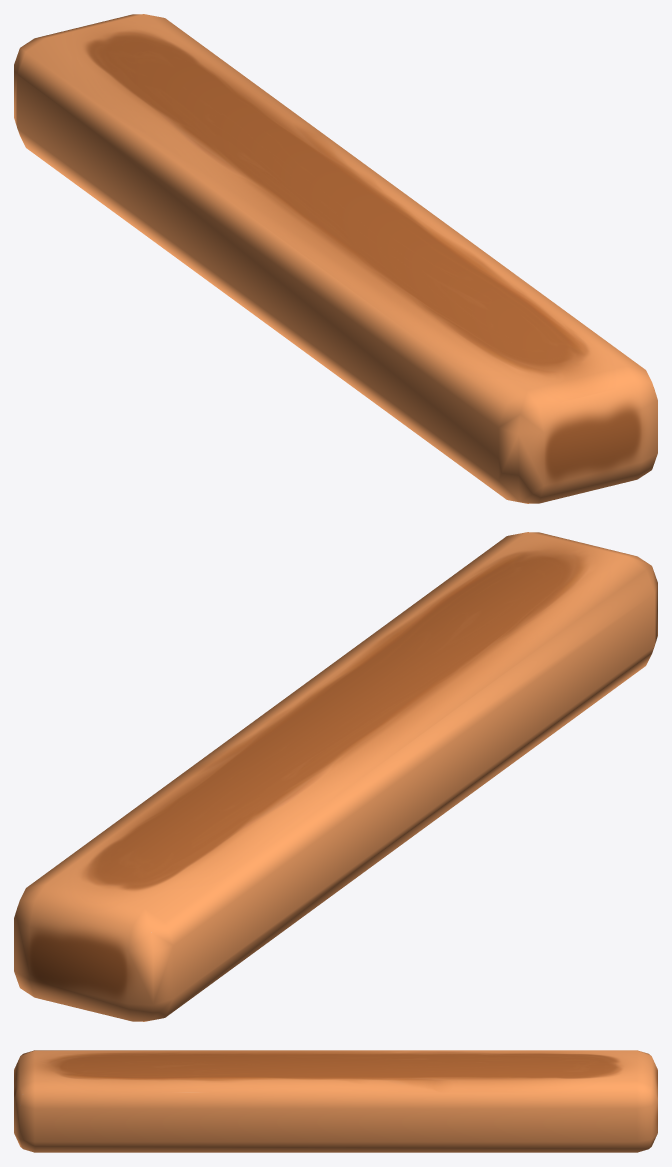
The model's file is woodBalk.fbx.
3 renders of one model, top to bottom at view 1: azimuth 30°, elevation 25°; view 2: azimuth 150°, elevation 25°; view 3: azimuth 270°, elevation 25°, orthographic. The views are drawn at different scales.
Visible parts, largest first — view 1: castle gate.002; view 2: castle gate.002; view 3: castle gate.002.
Part boxes in pixels (bbox=[...]): castle gate.002: bbox=[14, 14, 657, 503]; castle gate.002: bbox=[14, 532, 657, 1021]; castle gate.002: bbox=[14, 1050, 657, 1152].
Size of the model in its own units: 4285 by 2977 by 24447.
